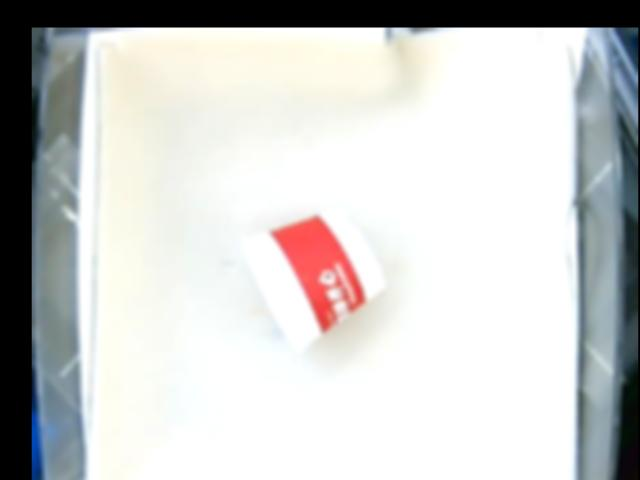Cup: (241, 205, 384, 355)
